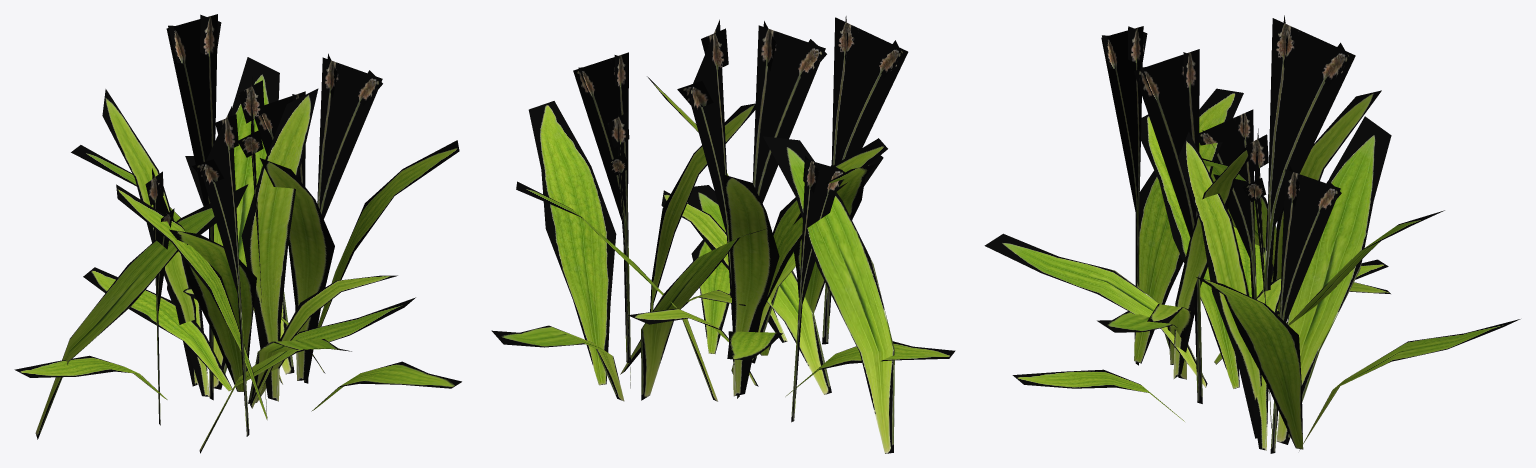
File: 11_plantago_lanceolata_02_big_001.fbx
3 views of the same model, side by side, from view 1: azimuth 30°, elevation 25°; view 2: azimuth 150°, elevation 25°; view 3: azimuth 270°, elevation 25° (orthographic).
Parts seen in each view (by area): view 1: 11_plantago_lanceolata_02_big.001; view 2: 11_plantago_lanceolata_02_big.001; view 3: 11_plantago_lanceolata_02_big.001.
Boxes of the visible parts, x1,y1,x2,y2 form: 11_plantago_lanceolata_02_big.001: (14, 14, 461, 453); 11_plantago_lanceolata_02_big.001: (491, 16, 955, 453); 11_plantago_lanceolata_02_big.001: (984, 15, 1520, 453).
Size of the model in its own units: 0.2553 by 0.2214 by 0.2745.
